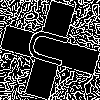U: (25, 25, 79, 72)
